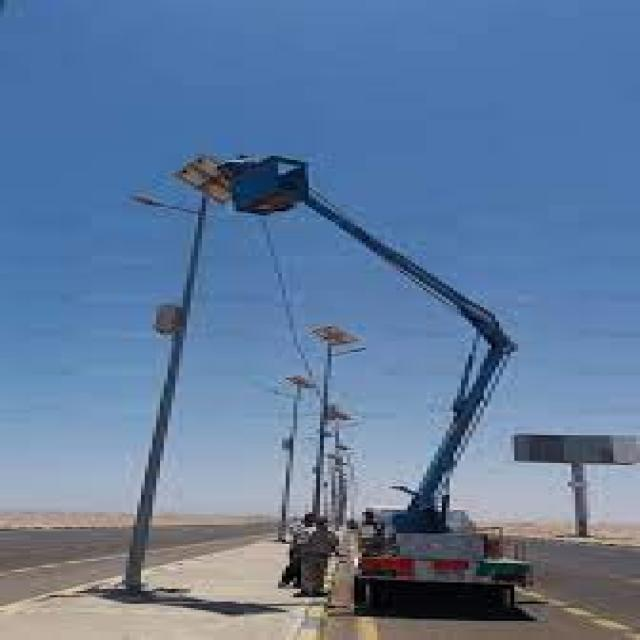Street Light: (118, 194, 210, 593)
